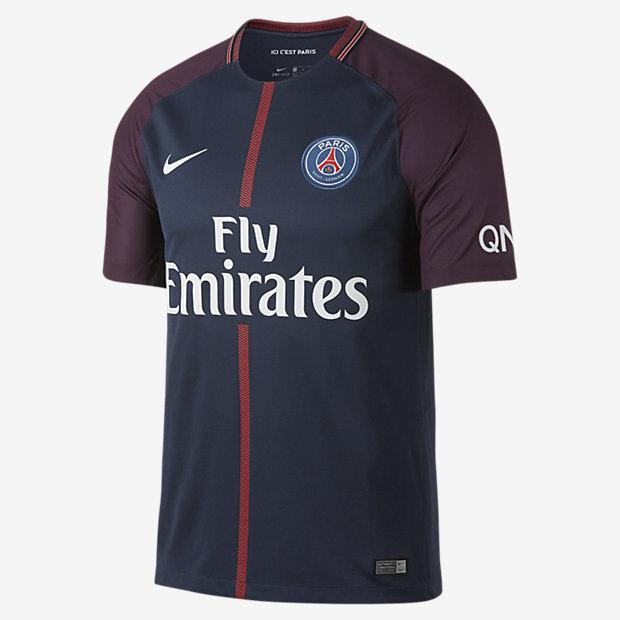teeshirt: (92, 10, 521, 620)
